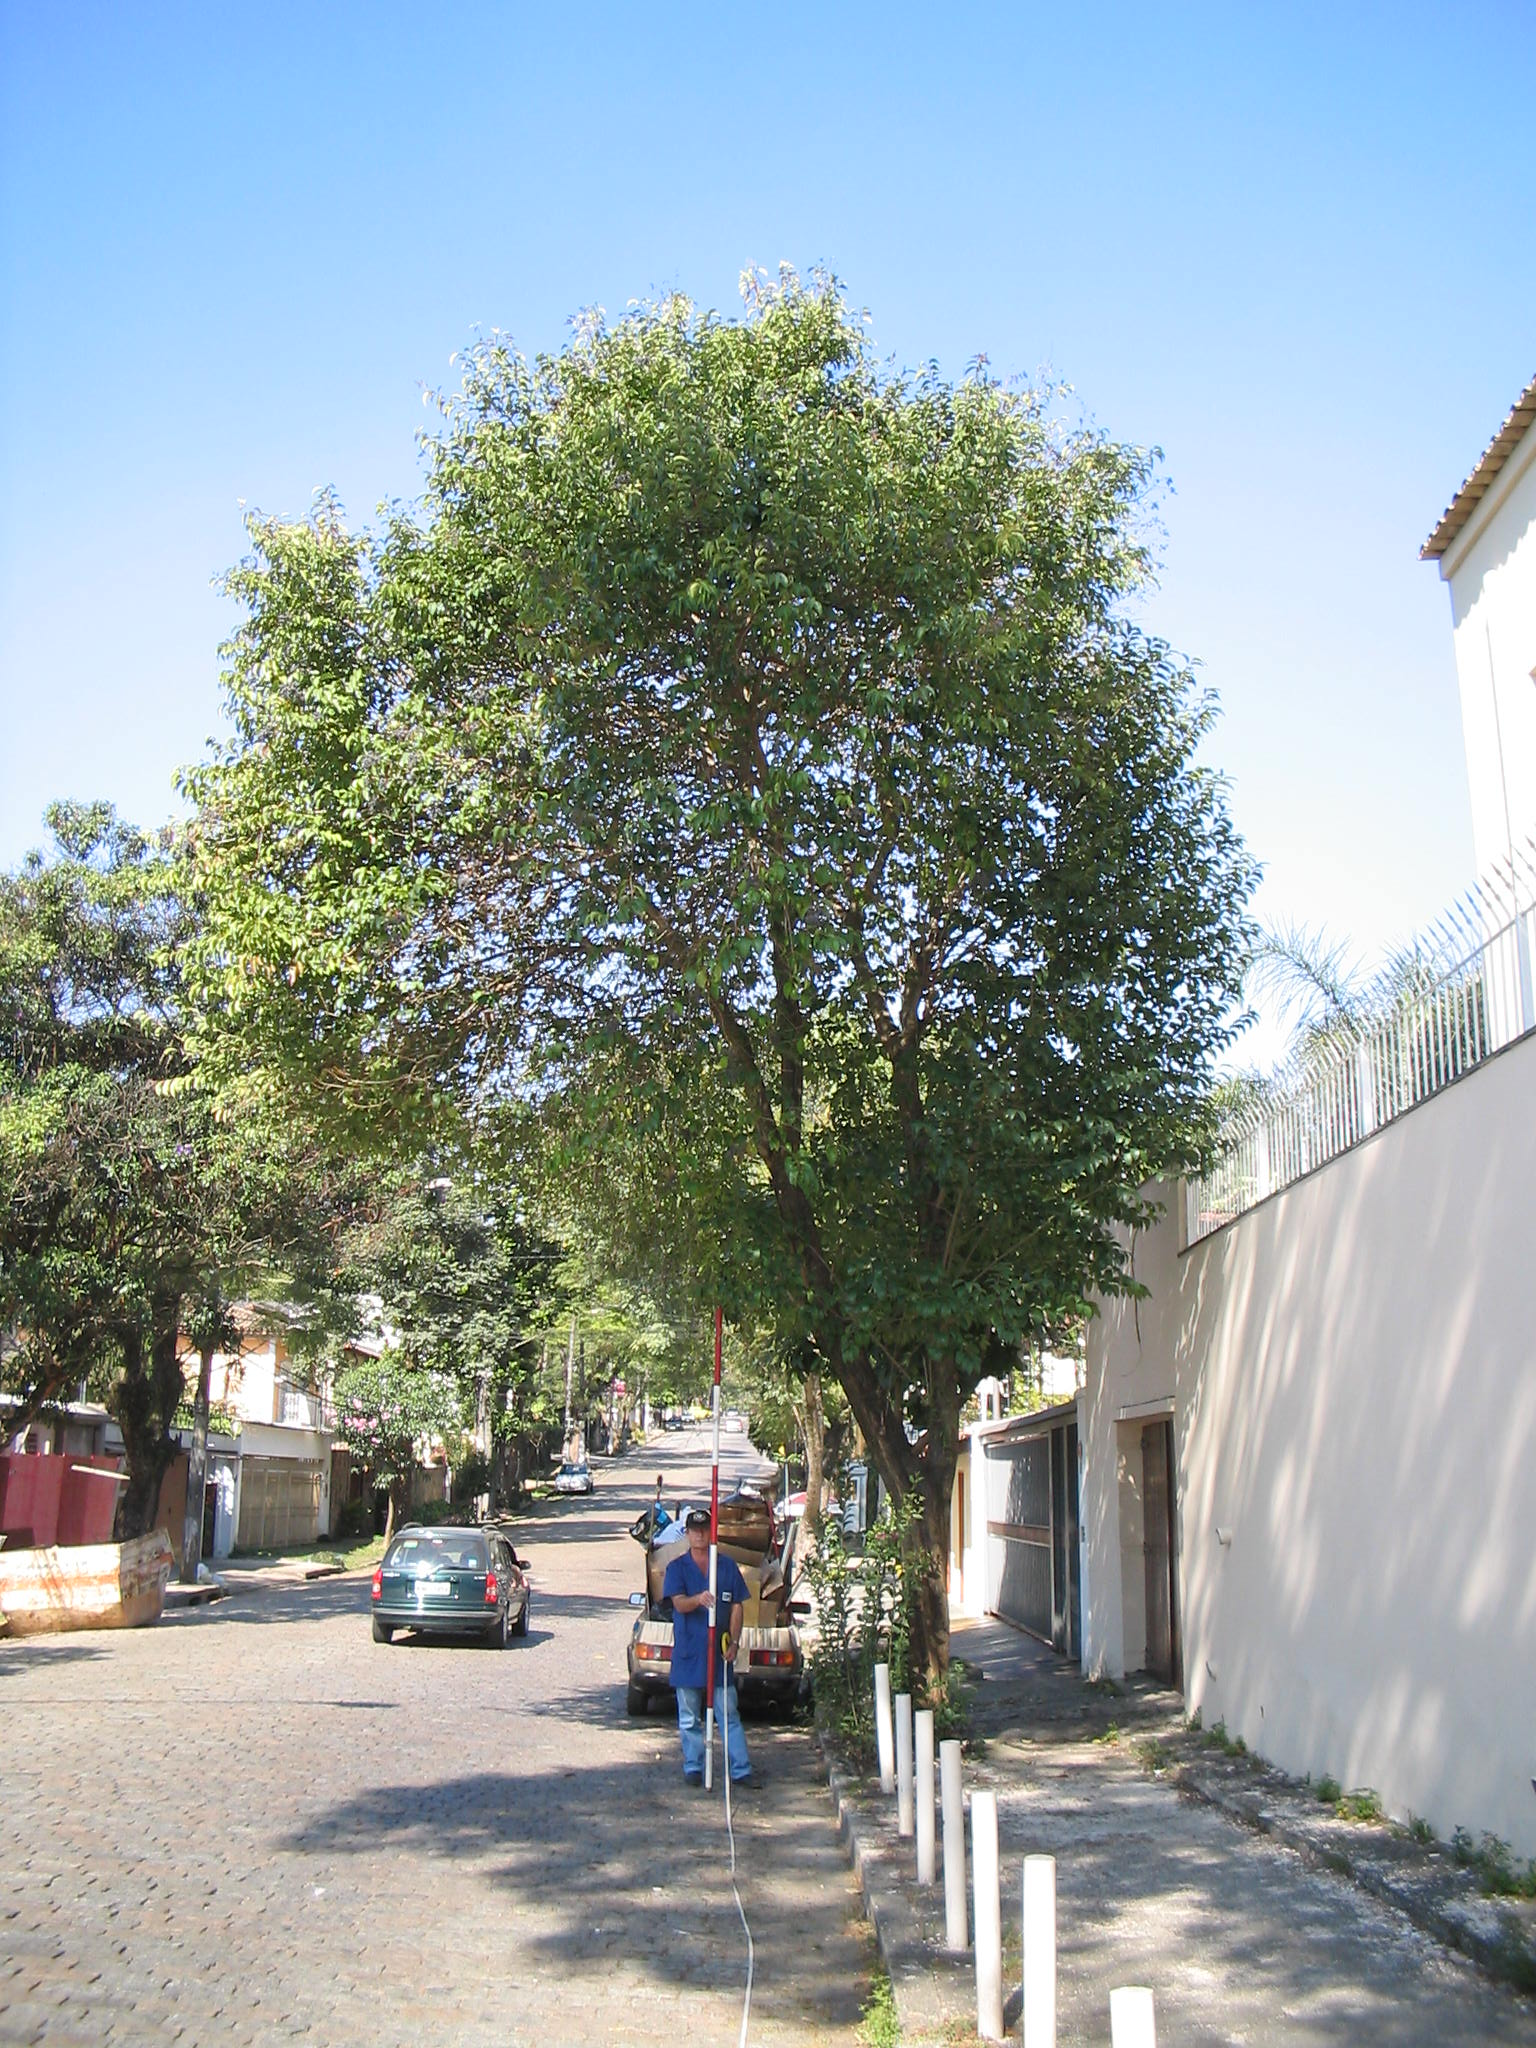crown: (169, 266, 1278, 1421)
stem: (870, 1500, 981, 1755)
stick: (684, 1308, 736, 1795)
tree: (160, 261, 1270, 1761)
